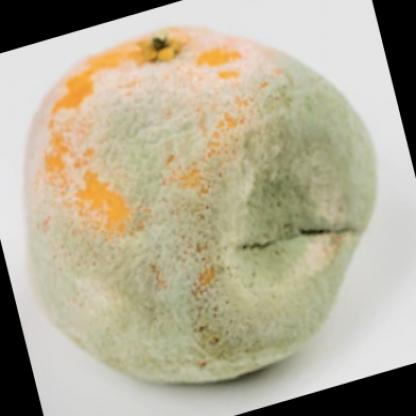rotten_orange: (13, 16, 380, 393)
